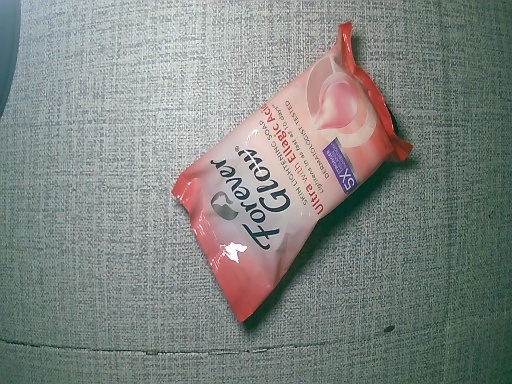plastic: (166, 23, 407, 326)
